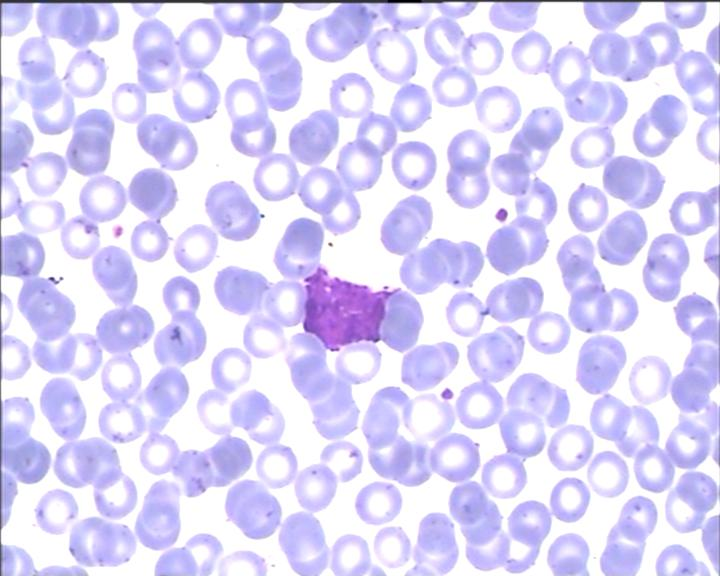baso: (299, 262, 397, 356)
